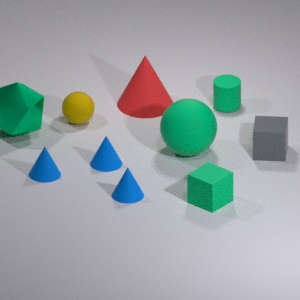lapphuong: (178, 157, 236, 215), (248, 112, 290, 164)
lucgiac: (0, 79, 47, 139)
non: (114, 47, 176, 118), (23, 145, 63, 184), (112, 165, 143, 211), (89, 135, 124, 172)
tron: (156, 94, 220, 156), (58, 89, 97, 127)
tru: (208, 67, 244, 119)
